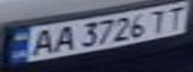2: (112, 15, 136, 43)
3: (75, 19, 100, 48)
6: (127, 11, 151, 38)
7: (93, 16, 118, 46)
A: (21, 27, 60, 57), (48, 24, 78, 53)
T: (160, 2, 193, 30), (145, 7, 172, 34)
